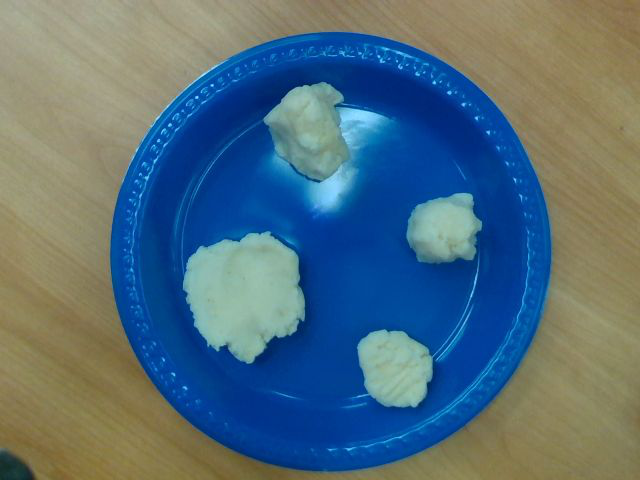mashed_potato: (186, 242, 305, 350), (265, 83, 349, 179), (358, 330, 432, 407), (408, 192, 481, 262)
